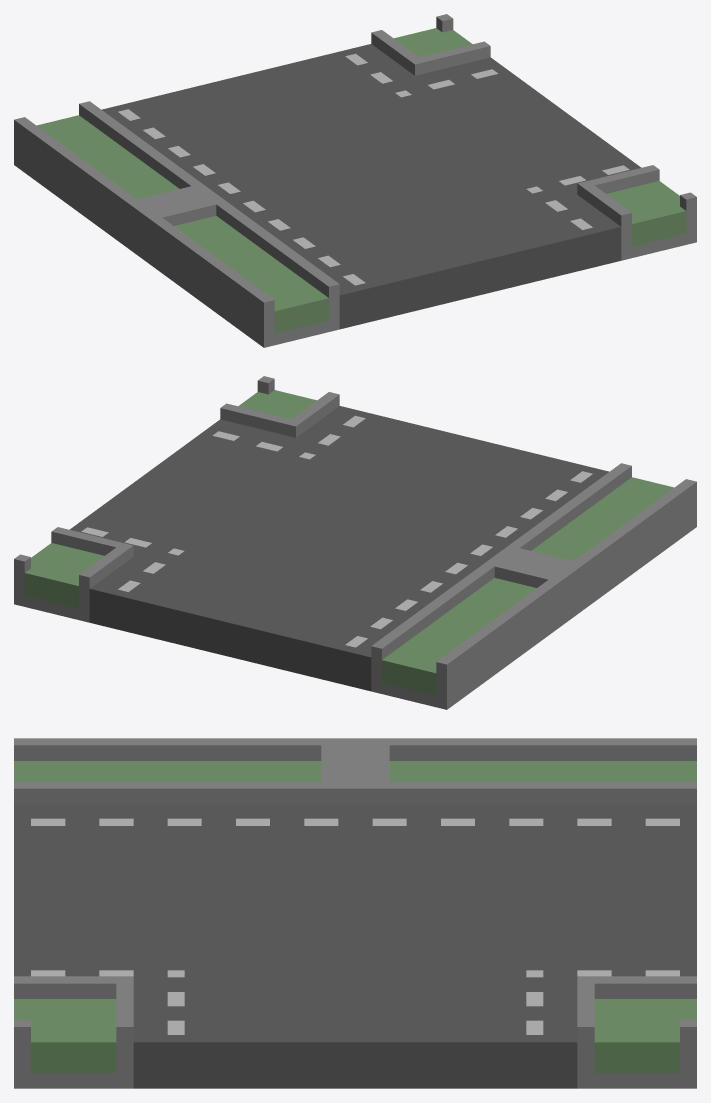
Rendered from RoadT2.vox.obj.
3 renders of one model, top to bottom at view 1: azimuth 30°, elevation 25°; view 2: azimuth 150°, elevation 25°; view 3: azimuth 270°, elevation 25°, orthographic. The views are drawn at different scales.
Size of the model in its own units: 4 by 0.4 by 4.
Materials: 1 (1 with a texture image).
